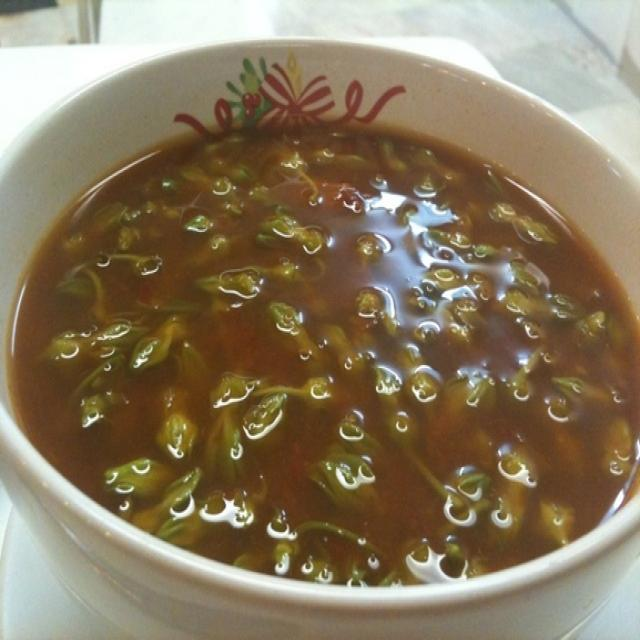汤锅炖物: (13, 68, 638, 602)
